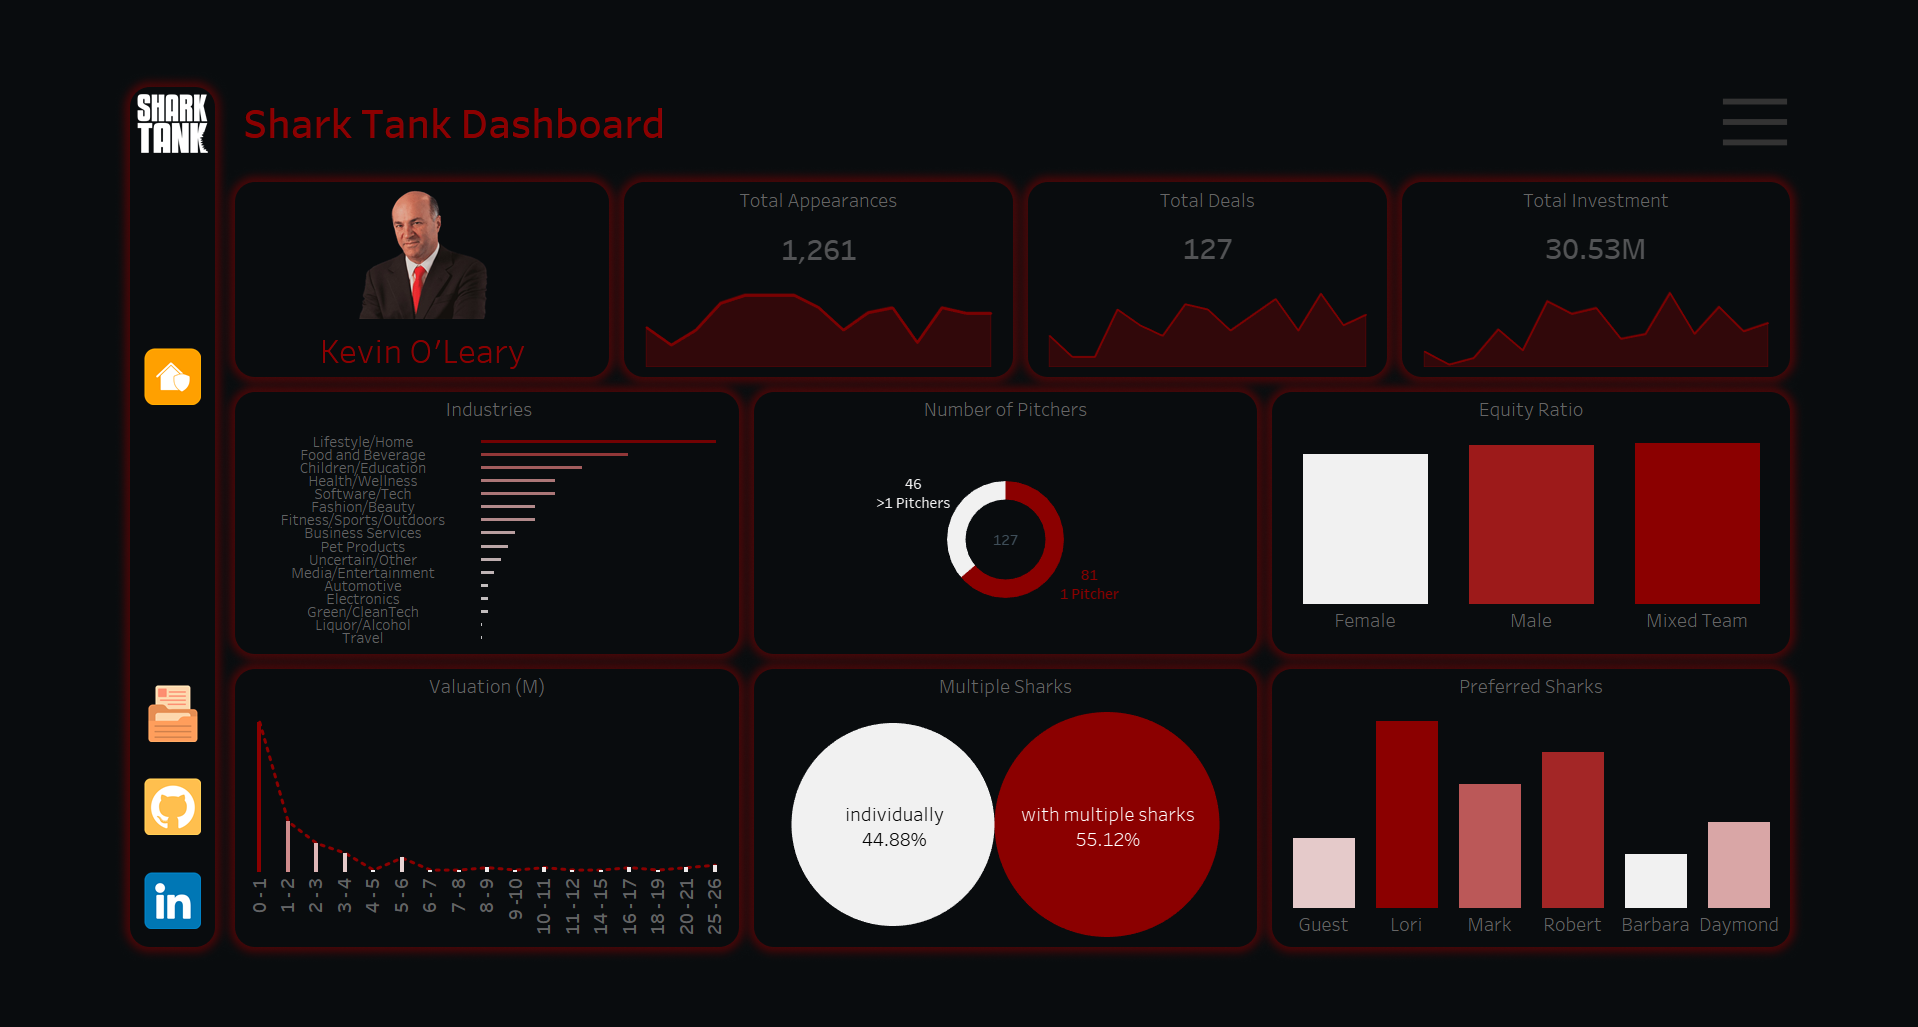

This screenshot's page, from the dashboard's own definition file:
{"tool":"tableau","page":{"name":"Kevin Dashboard","canvas":[1700,900],"ordinal":2},"visuals":[{"type":"image","param":"Image/Kevin Dashboard figma frame.png","box":[0,0,1700,900]},{"type":"image","param":"Image/Shark Tank Logo.png","box":[20,20,85,70]},{"type":"text","box":[125,20,1396,70]},{"type":"filter","title":"BAN Kevin Appearance ","param":"[federated.1ieom2h10l72pi1cs9e2u08v19sh].[none:industry:nk]","box":[1037,20,231,70]},{"type":"filter","title":"BAN Kevin Appearance ","param":"[federated.1ieom2h10l72pi1cs9e2u08v19sh].[none:season:ok]","box":[1268,20,253,70]},{"type":"blank","box":[1521,20,89,70]},{"type":"dashboard-object","box":[1610,20,70,70]},{"type":"blank","box":[20,90,85,156]},{"type":"image","param":"Image/Kevin O'Leary.png","box":[125,115,374,142]},{"type":"text","box":[514,115,389,35]},{"type":"text","box":[918,115,359,35]},{"type":"text","box":[1292,115,388,35]},{"type":"worksheet","title":"BAN Kevin Appearance ","mark":"Text","box":[514,150,389,63]},{"type":"worksheet","title":"BAN Kevin Deals","mark":"Text","box":[918,150,359,61]},{"type":"worksheet","title":"BAN Kevin Total Investment","mark":"Text","box":[1292,150,388,61]},{"type":"worksheet","title":"Kevin Deals","mark":"Line","rows":["Kevin_invested","Kevin_invested"],"cols":["season"],"box":[918,211,359,99]},{"type":"worksheet","title":"Kevin Total Investment","mark":"Line","rows":["kevin_inv_amt","kevin_inv_amt"],"cols":["season"],"box":[1292,211,388,99]},{"type":"worksheet","title":"Kevin Appearances","mark":"Area","rows":["kevin","kevin"],"cols":["season"],"box":[514,213,389,97]},{"type":"dashboard-object","box":[20,246,85,128]},{"type":"text","box":[125,257,374,53]},{"type":"text","box":[125,325,504,33]},{"type":"text","box":[644,325,503,33]},{"type":"text","box":[1162,325,518,33]},{"type":"worksheet","title":"Kevin Top 5 Industries by No of Deals","mark":"Bar","rows":["industry"],"cols":["Kevin_invested"],"box":[125,358,504,229]},{"type":"worksheet","title":"Kevin Preferences for No of Pitchers","mark":"Pie","rows":["Calculation_1245245364195418118","Calculation_1245245364195418118"],"box":[644,358,503,229]},{"type":"worksheet","title":"Kevin Preferences for Offered:Deal Ratio","mark":"Automatic","rows":["Calculation_2397322443195224066"],"cols":["gender"],"box":[1162,358,518,229]},{"type":"blank","box":[20,374,85,226]},{"type":"image","param":"Image/portfolio-folder.png","box":[20,600,85,93.3]},{"type":"text","box":[125,602,504,33]},{"type":"text","box":[644,602,503,33]},{"type":"text","box":[1162,602,518,33]},{"type":"worksheet","title":"Kevin Mode of Deal Valuation (M)","mark":"Line","rows":["data_1A36516F31B94259A03002EB3918A69C","data_1A36516F31B94259A03002EB3918A69C"],"cols":["Deal Valuation (bin)"],"box":[125,635,504,245]},{"type":"worksheet","title":"Kevin Preferences for Multi Shark Deals","mark":"Circle","box":[644,635,503,245]},{"type":"worksheet","title":"Kevin Shark Pairing Preferences","mark":"Automatic","cols":["Kevin_invested"],"box":[1162,635,518,245]},{"type":"image","param":"Image/github.png","box":[20,693.3,85,93.3]},{"type":"image","param":"Image/follow-me-on-linkedin-social-badge.png","box":[20,786.7,85,93.3]}]}

Visuals, with their boxes in screenshot pixels (x1, y1, x2, y2), scaled from the page's 1700x900 canvas onto the 1918x1027 screenshot:
image: {"left": 0, "top": 0, "right": 1917, "bottom": 1026}
image: {"left": 23, "top": 23, "right": 118, "bottom": 103}
text: {"left": 141, "top": 23, "right": 1716, "bottom": 103}
"BAN Kevin Appearance " filter: {"left": 1170, "top": 23, "right": 1431, "bottom": 103}
"BAN Kevin Appearance " filter: {"left": 1431, "top": 23, "right": 1716, "bottom": 103}
blank: {"left": 1716, "top": 23, "right": 1816, "bottom": 103}
dashboard-object: {"left": 1816, "top": 23, "right": 1895, "bottom": 103}
blank: {"left": 23, "top": 103, "right": 118, "bottom": 281}
image: {"left": 141, "top": 131, "right": 563, "bottom": 293}
text: {"left": 580, "top": 131, "right": 1019, "bottom": 171}
text: {"left": 1036, "top": 131, "right": 1441, "bottom": 171}
text: {"left": 1458, "top": 131, "right": 1895, "bottom": 171}
"BAN Kevin Appearance " worksheet (Text marks): {"left": 580, "top": 171, "right": 1019, "bottom": 243}
"BAN Kevin Deals" worksheet (Text marks): {"left": 1036, "top": 171, "right": 1441, "bottom": 241}
"BAN Kevin Total Investment" worksheet (Text marks): {"left": 1458, "top": 171, "right": 1895, "bottom": 241}
"Kevin Deals" worksheet (Line marks): {"left": 1036, "top": 241, "right": 1441, "bottom": 354}
"Kevin Total Investment" worksheet (Line marks): {"left": 1458, "top": 241, "right": 1895, "bottom": 354}
"Kevin Appearances" worksheet (Area marks): {"left": 580, "top": 243, "right": 1019, "bottom": 354}
dashboard-object: {"left": 23, "top": 281, "right": 118, "bottom": 427}
text: {"left": 141, "top": 293, "right": 563, "bottom": 354}
text: {"left": 141, "top": 371, "right": 710, "bottom": 409}
text: {"left": 727, "top": 371, "right": 1294, "bottom": 409}
text: {"left": 1311, "top": 371, "right": 1895, "bottom": 409}
"Kevin Top 5 Industries by No of Deals" worksheet (Bar marks): {"left": 141, "top": 409, "right": 710, "bottom": 670}
"Kevin Preferences for No of Pitchers" worksheet (Pie marks): {"left": 727, "top": 409, "right": 1294, "bottom": 670}
"Kevin Preferences for Offered:Deal Ratio" worksheet: {"left": 1311, "top": 409, "right": 1895, "bottom": 670}
blank: {"left": 23, "top": 427, "right": 118, "bottom": 685}
image: {"left": 23, "top": 685, "right": 118, "bottom": 791}
text: {"left": 141, "top": 687, "right": 710, "bottom": 725}
text: {"left": 727, "top": 687, "right": 1294, "bottom": 725}
text: {"left": 1311, "top": 687, "right": 1895, "bottom": 725}
"Kevin Mode of Deal Valuation (M)" worksheet (Line marks): {"left": 141, "top": 725, "right": 710, "bottom": 1004}
"Kevin Preferences for Multi Shark Deals" worksheet (Circle marks): {"left": 727, "top": 725, "right": 1294, "bottom": 1004}
"Kevin Shark Pairing Preferences" worksheet: {"left": 1311, "top": 725, "right": 1895, "bottom": 1004}
image: {"left": 23, "top": 791, "right": 118, "bottom": 898}
image: {"left": 23, "top": 898, "right": 118, "bottom": 1004}
